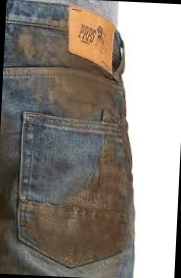earth: (36, 203, 128, 251), (58, 68, 108, 114), (15, 32, 66, 67), (98, 155, 131, 206)
